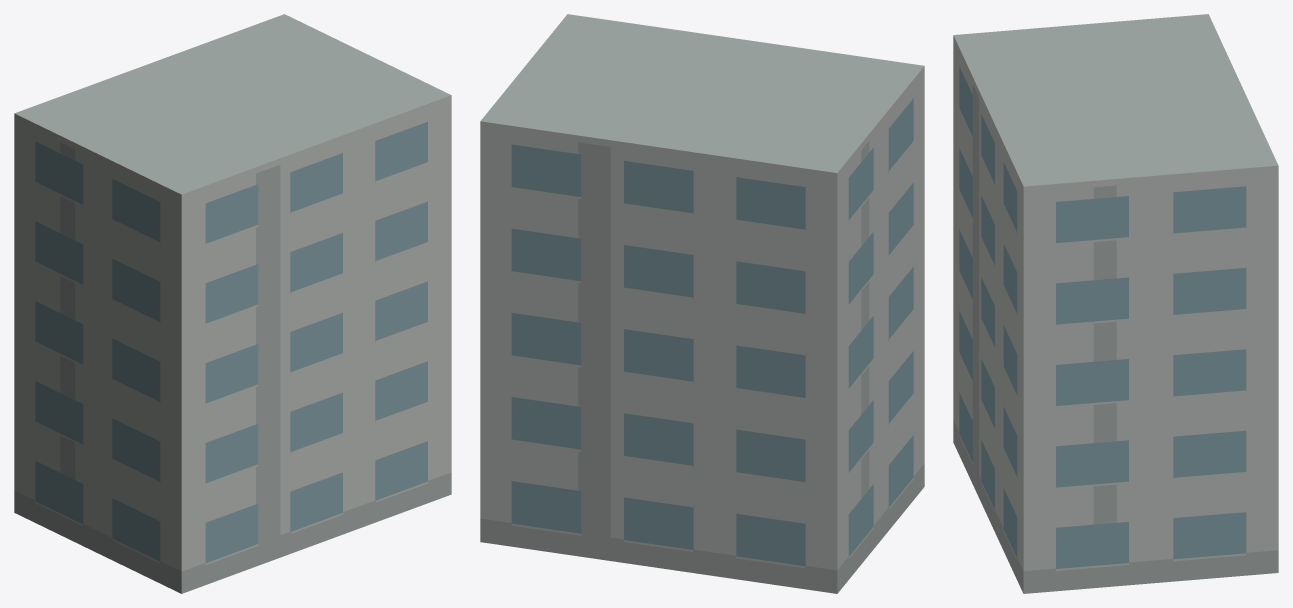
Rendered from residential-a306e034-9583-4f28-aa02-ad9565152e67.glb.
The picture shows the model from 3 angles, left to right: view 1: azimuth 30°, elevation 25°; view 2: azimuth 150°, elevation 25°; view 3: azimuth 270°, elevation 25°; orthographic projection. The views are drawn at different scales.
Parts seen in each view (by area): view 1: residential-a306e034-9583-4f28-aa02-ad9565152e67.tmp; view 2: residential-a306e034-9583-4f28-aa02-ad9565152e67.tmp; view 3: residential-a306e034-9583-4f28-aa02-ad9565152e67.tmp.
Boxes of the visible parts, x1,y1,x2,y2 form: residential-a306e034-9583-4f28-aa02-ad9565152e67.tmp: (14,14,451,593); residential-a306e034-9583-4f28-aa02-ad9565152e67.tmp: (480,14,924,593); residential-a306e034-9583-4f28-aa02-ad9565152e67.tmp: (953,14,1278,593).
Bounding box in the file's own units: 13.87 × 15.25 × 11.04.
